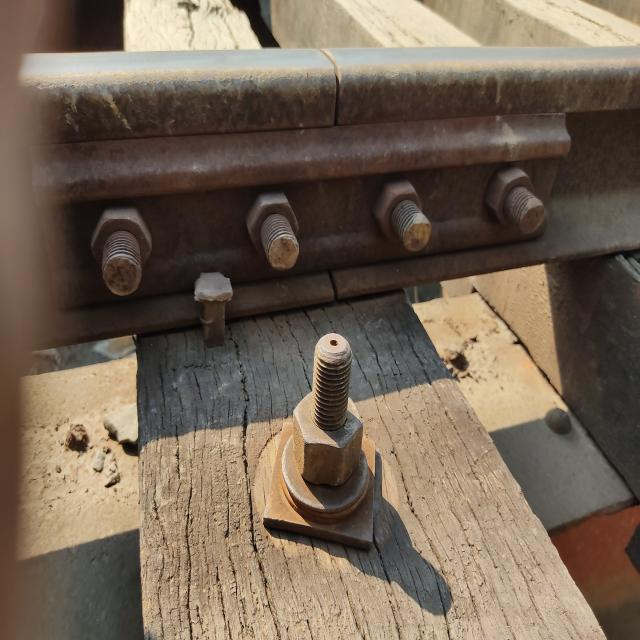non-defective: (245, 13, 626, 461)
